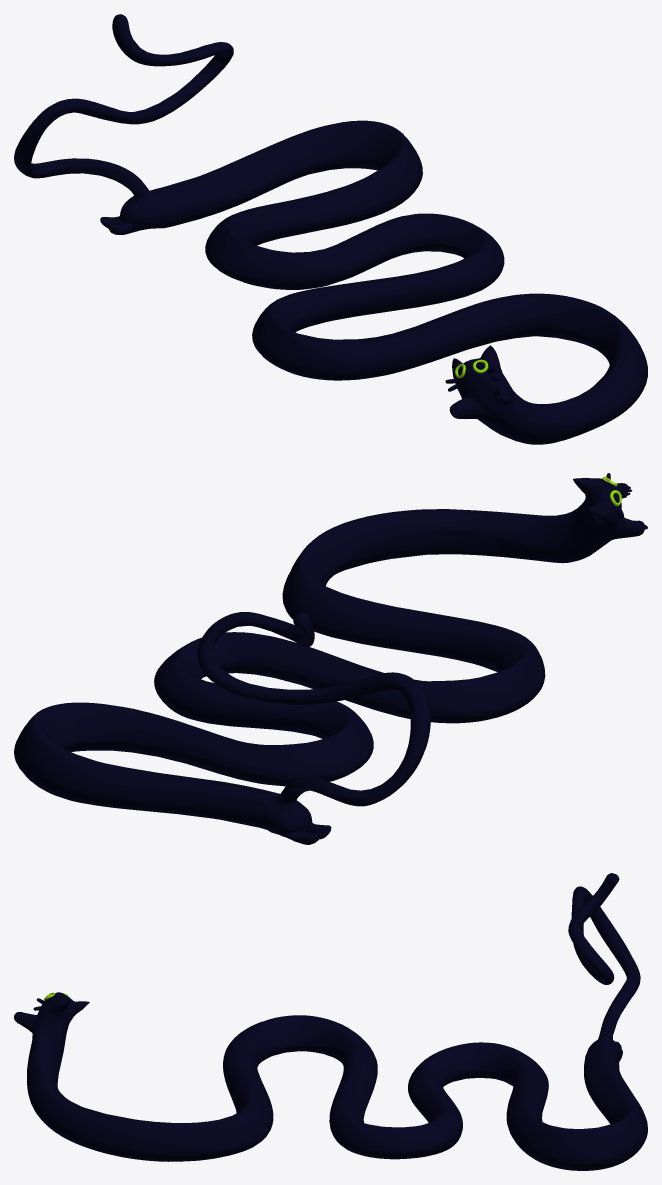
The picture shows the model from 3 angles, top to bottom: view 1: azimuth 30°, elevation 25°; view 2: azimuth 150°, elevation 25°; view 3: azimuth 270°, elevation 25°; orthographic projection. The views are drawn at different scales.
Parts seen in each view (by area): view 1: Freehand001_Blaaaaaaaaack_0; view 2: Freehand001_Blaaaaaaaaack_0; view 3: Freehand001_Blaaaaaaaaack_0.
Part boxes in pixels (x1,y1,x2,y2): Freehand001_Blaaaaaaaaack_0: [14, 14, 647, 444]; Freehand001_Blaaaaaaaaack_0: [14, 477, 644, 844]; Freehand001_Blaaaaaaaaack_0: [14, 873, 647, 1170].
Bounding box in the file's own units: 0.071 × 0.0379 × 0.1164.
